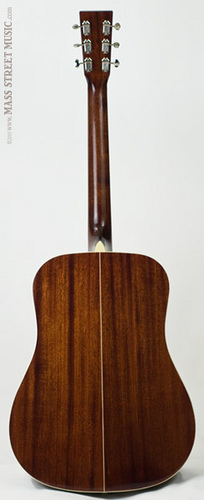guitar: (7, 10, 196, 497)
